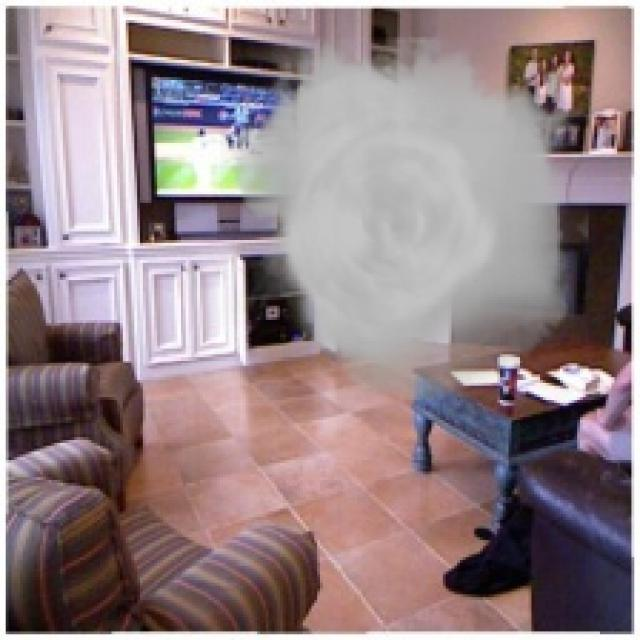smoke: (220, 37, 589, 400)
